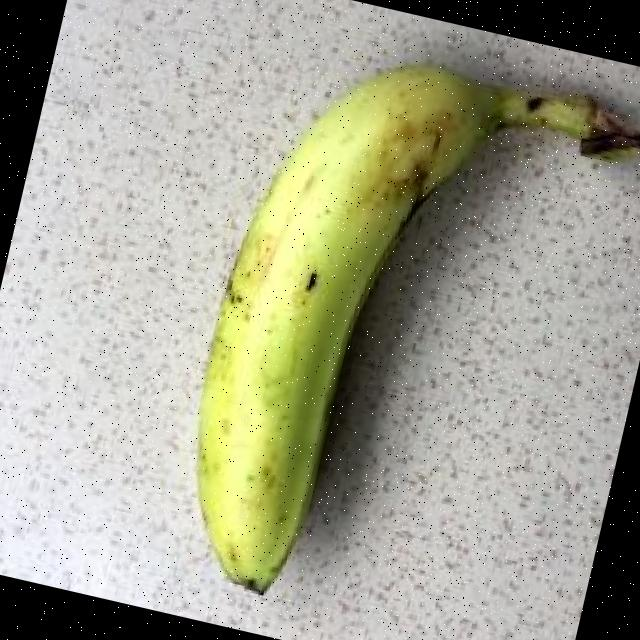banana: (196, 60, 594, 595)
